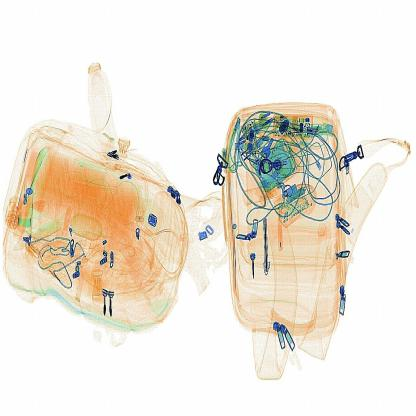knife: (260, 213, 272, 278)
